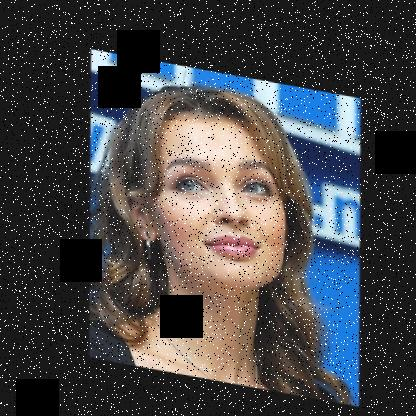Female: (118, 97, 296, 293)
